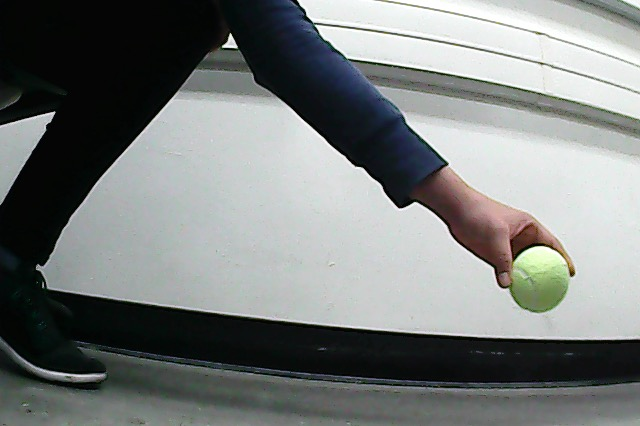ball: (502, 242, 575, 317)
